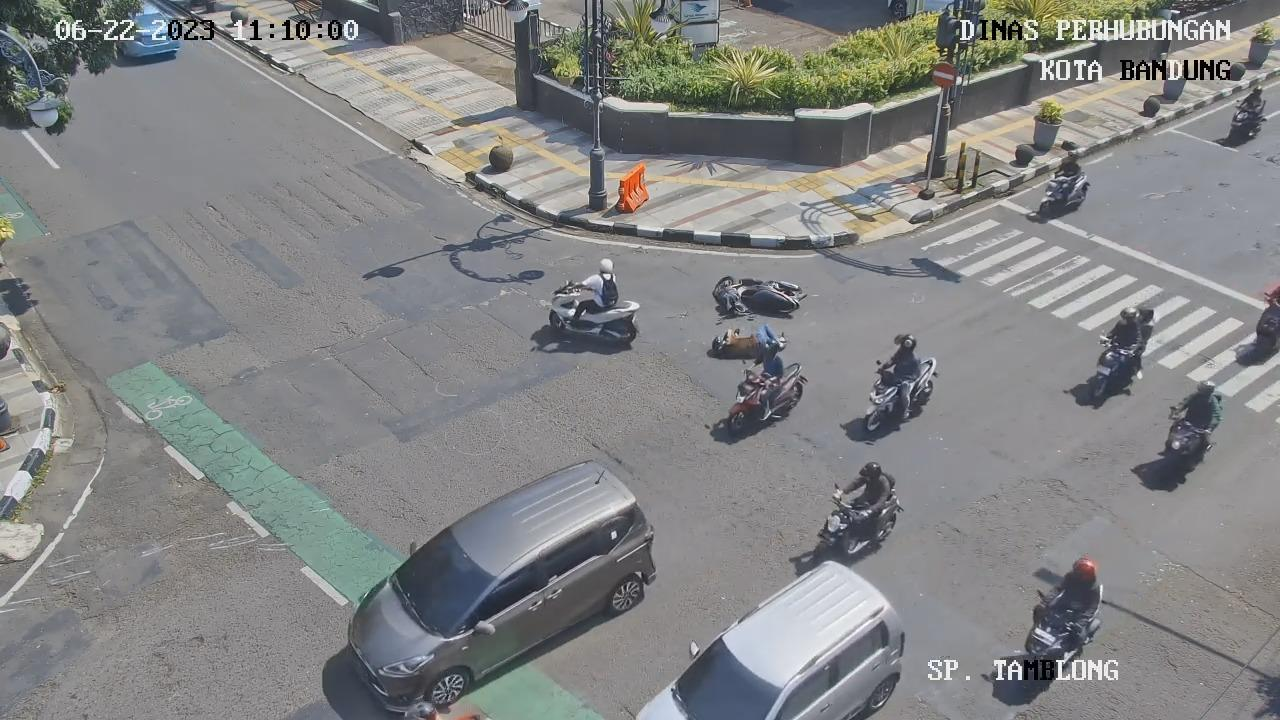accident: (707, 322, 788, 361)
